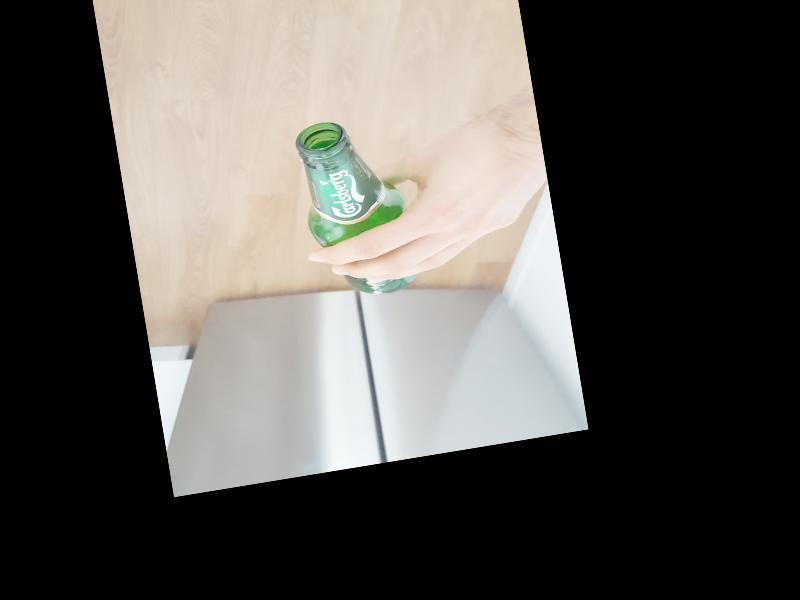Beer: (293, 110, 420, 303)
